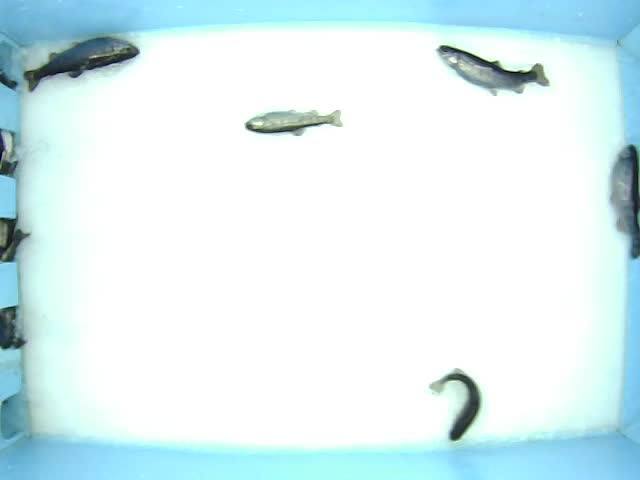fish: (20, 32, 141, 95), (435, 42, 551, 98), (428, 367, 481, 441), (608, 143, 640, 260), (244, 107, 345, 137)
